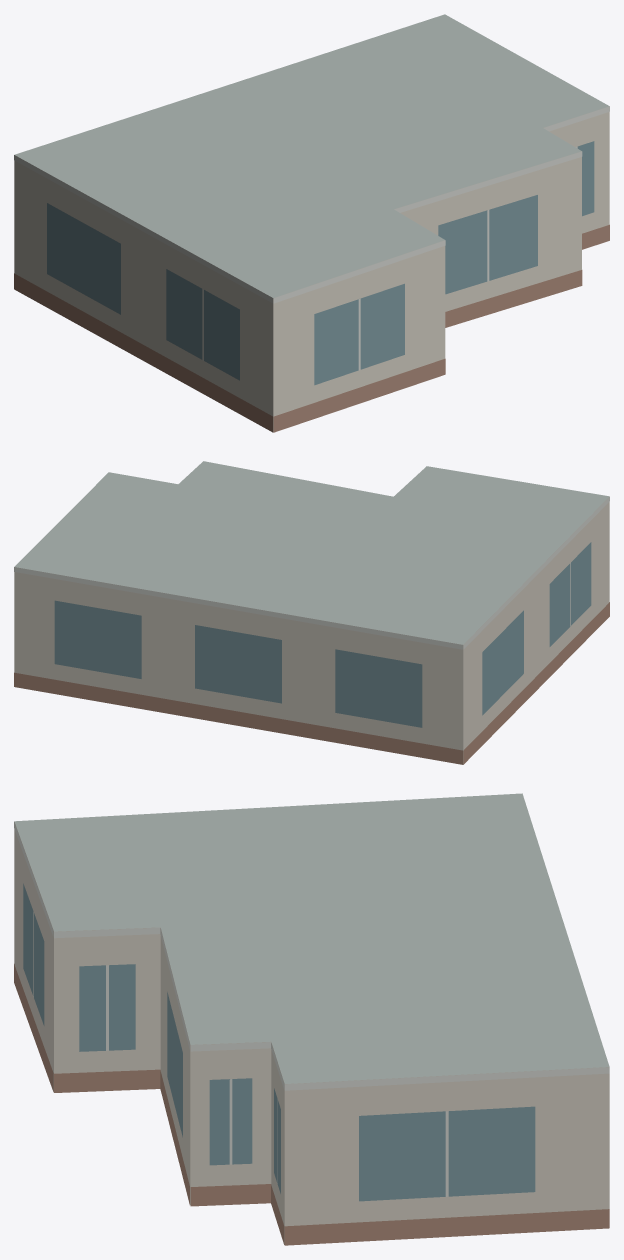
The model's file is survey-upis-32629816.glb.
3 views of the same model, one above another, from view 1: azimuth 30°, elevation 25°; view 2: azimuth 150°, elevation 25°; view 3: azimuth 270°, elevation 25° (orthographic). The views are drawn at different scales.
Visible parts, largest first — view 1: survey-upis-32629816.tmp; view 2: survey-upis-32629816.tmp; view 3: survey-upis-32629816.tmp.
Part boxes in pixels (x1,y1,x2,y2): survey-upis-32629816.tmp: [14, 14, 609, 432]; survey-upis-32629816.tmp: [14, 461, 609, 764]; survey-upis-32629816.tmp: [14, 793, 609, 1245].
Bounding box in the file's own units: 11.8 × 3.05 × 10.21.
